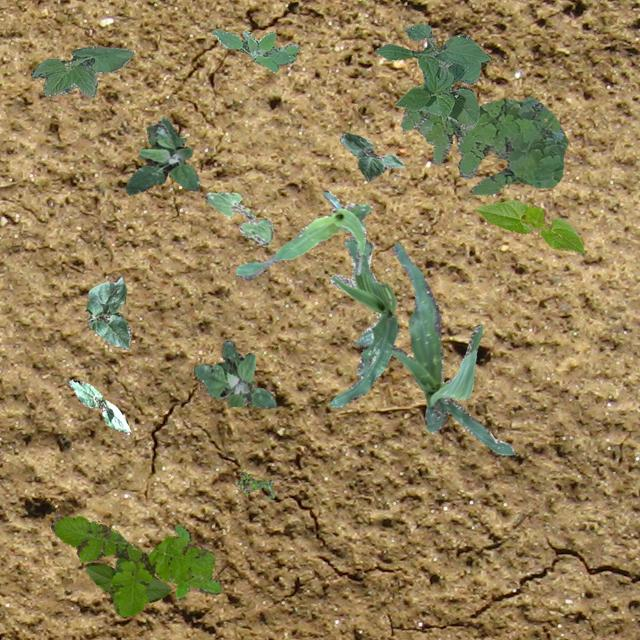crop: (391, 242, 514, 454), (374, 22, 490, 128), (234, 190, 370, 280), (328, 236, 398, 406), (476, 198, 584, 252), (30, 44, 134, 96), (204, 192, 272, 244), (68, 378, 130, 434), (84, 562, 170, 602), (84, 276, 130, 348), (338, 132, 402, 180)
weed: (49, 512, 214, 616), (399, 95, 566, 194), (124, 115, 198, 193), (192, 339, 276, 406), (212, 28, 298, 70), (172, 524, 220, 598), (234, 470, 274, 498)
